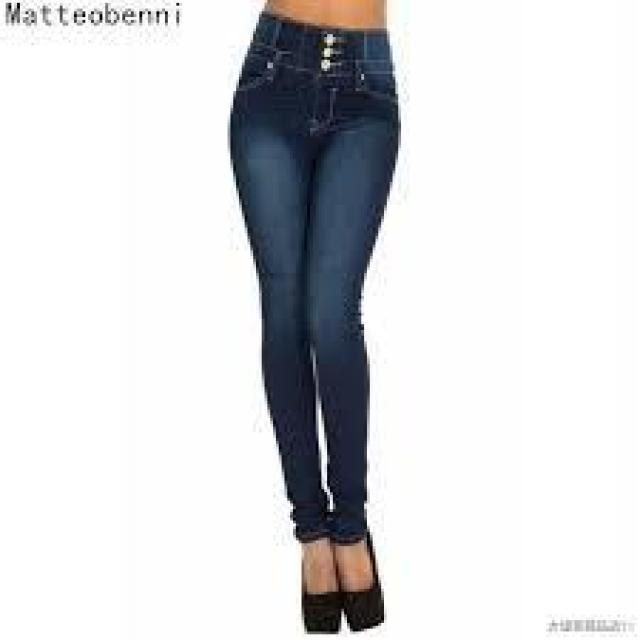pants: (229, 9, 402, 549)
